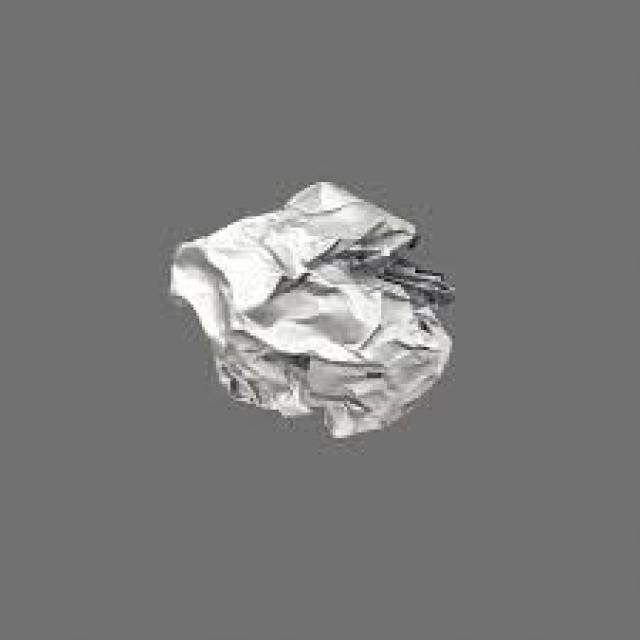Paper: (173, 187, 453, 438)
